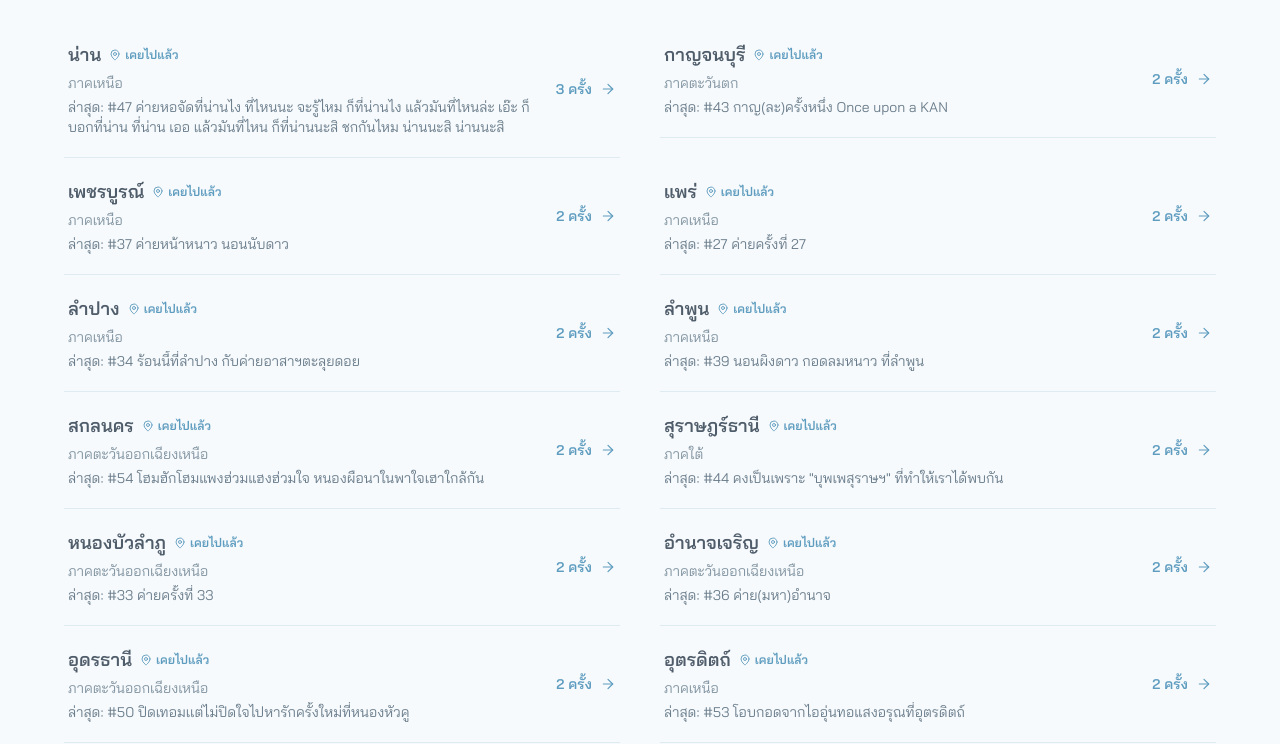
Test case: MapPage › zooms focus when selecting a province from the list
(page scrolled)
Click the button "สกลนคร": (101, 426) [64,392,620,509]
(page scrolled)
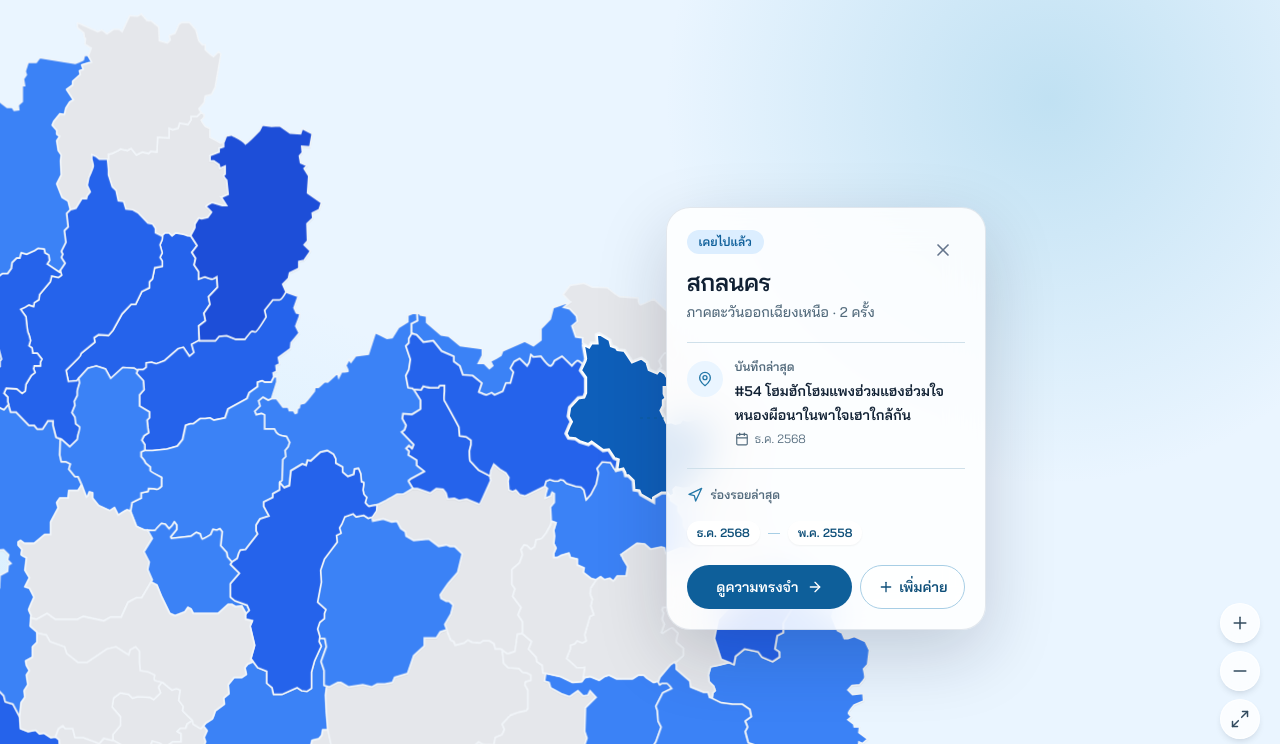
Expected: the text "ร่องรอยล่าสุด" is shown, [687,486,780,502]
Expected: the button named "ปิดรายละเอียดจังหวัด" is shown, [921,228,965,272]
